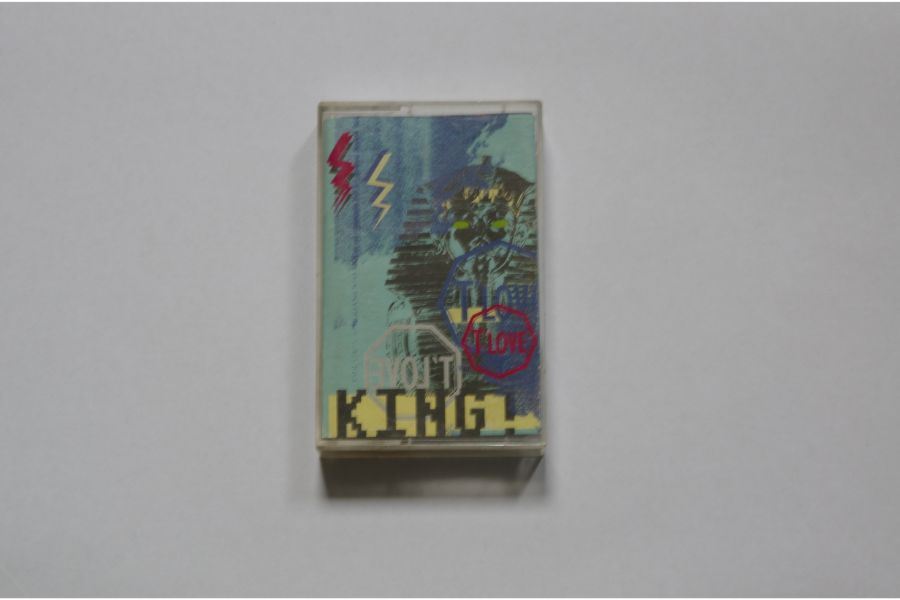album: (313, 97, 550, 461)
